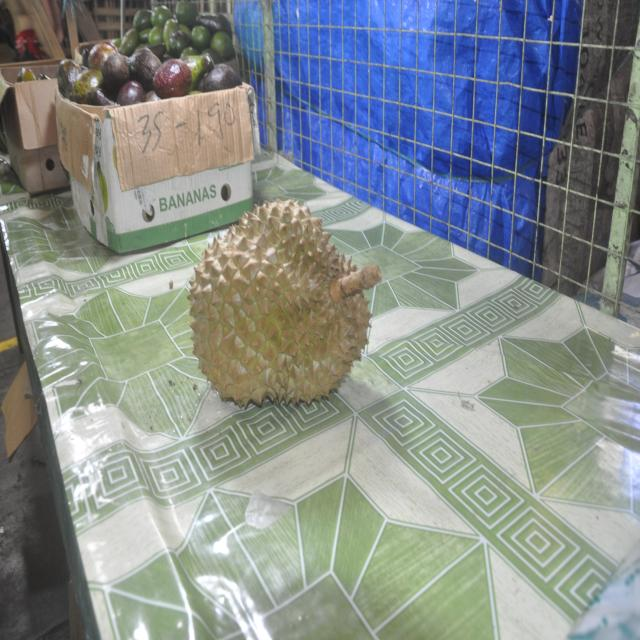mature: (188, 199, 382, 407)
